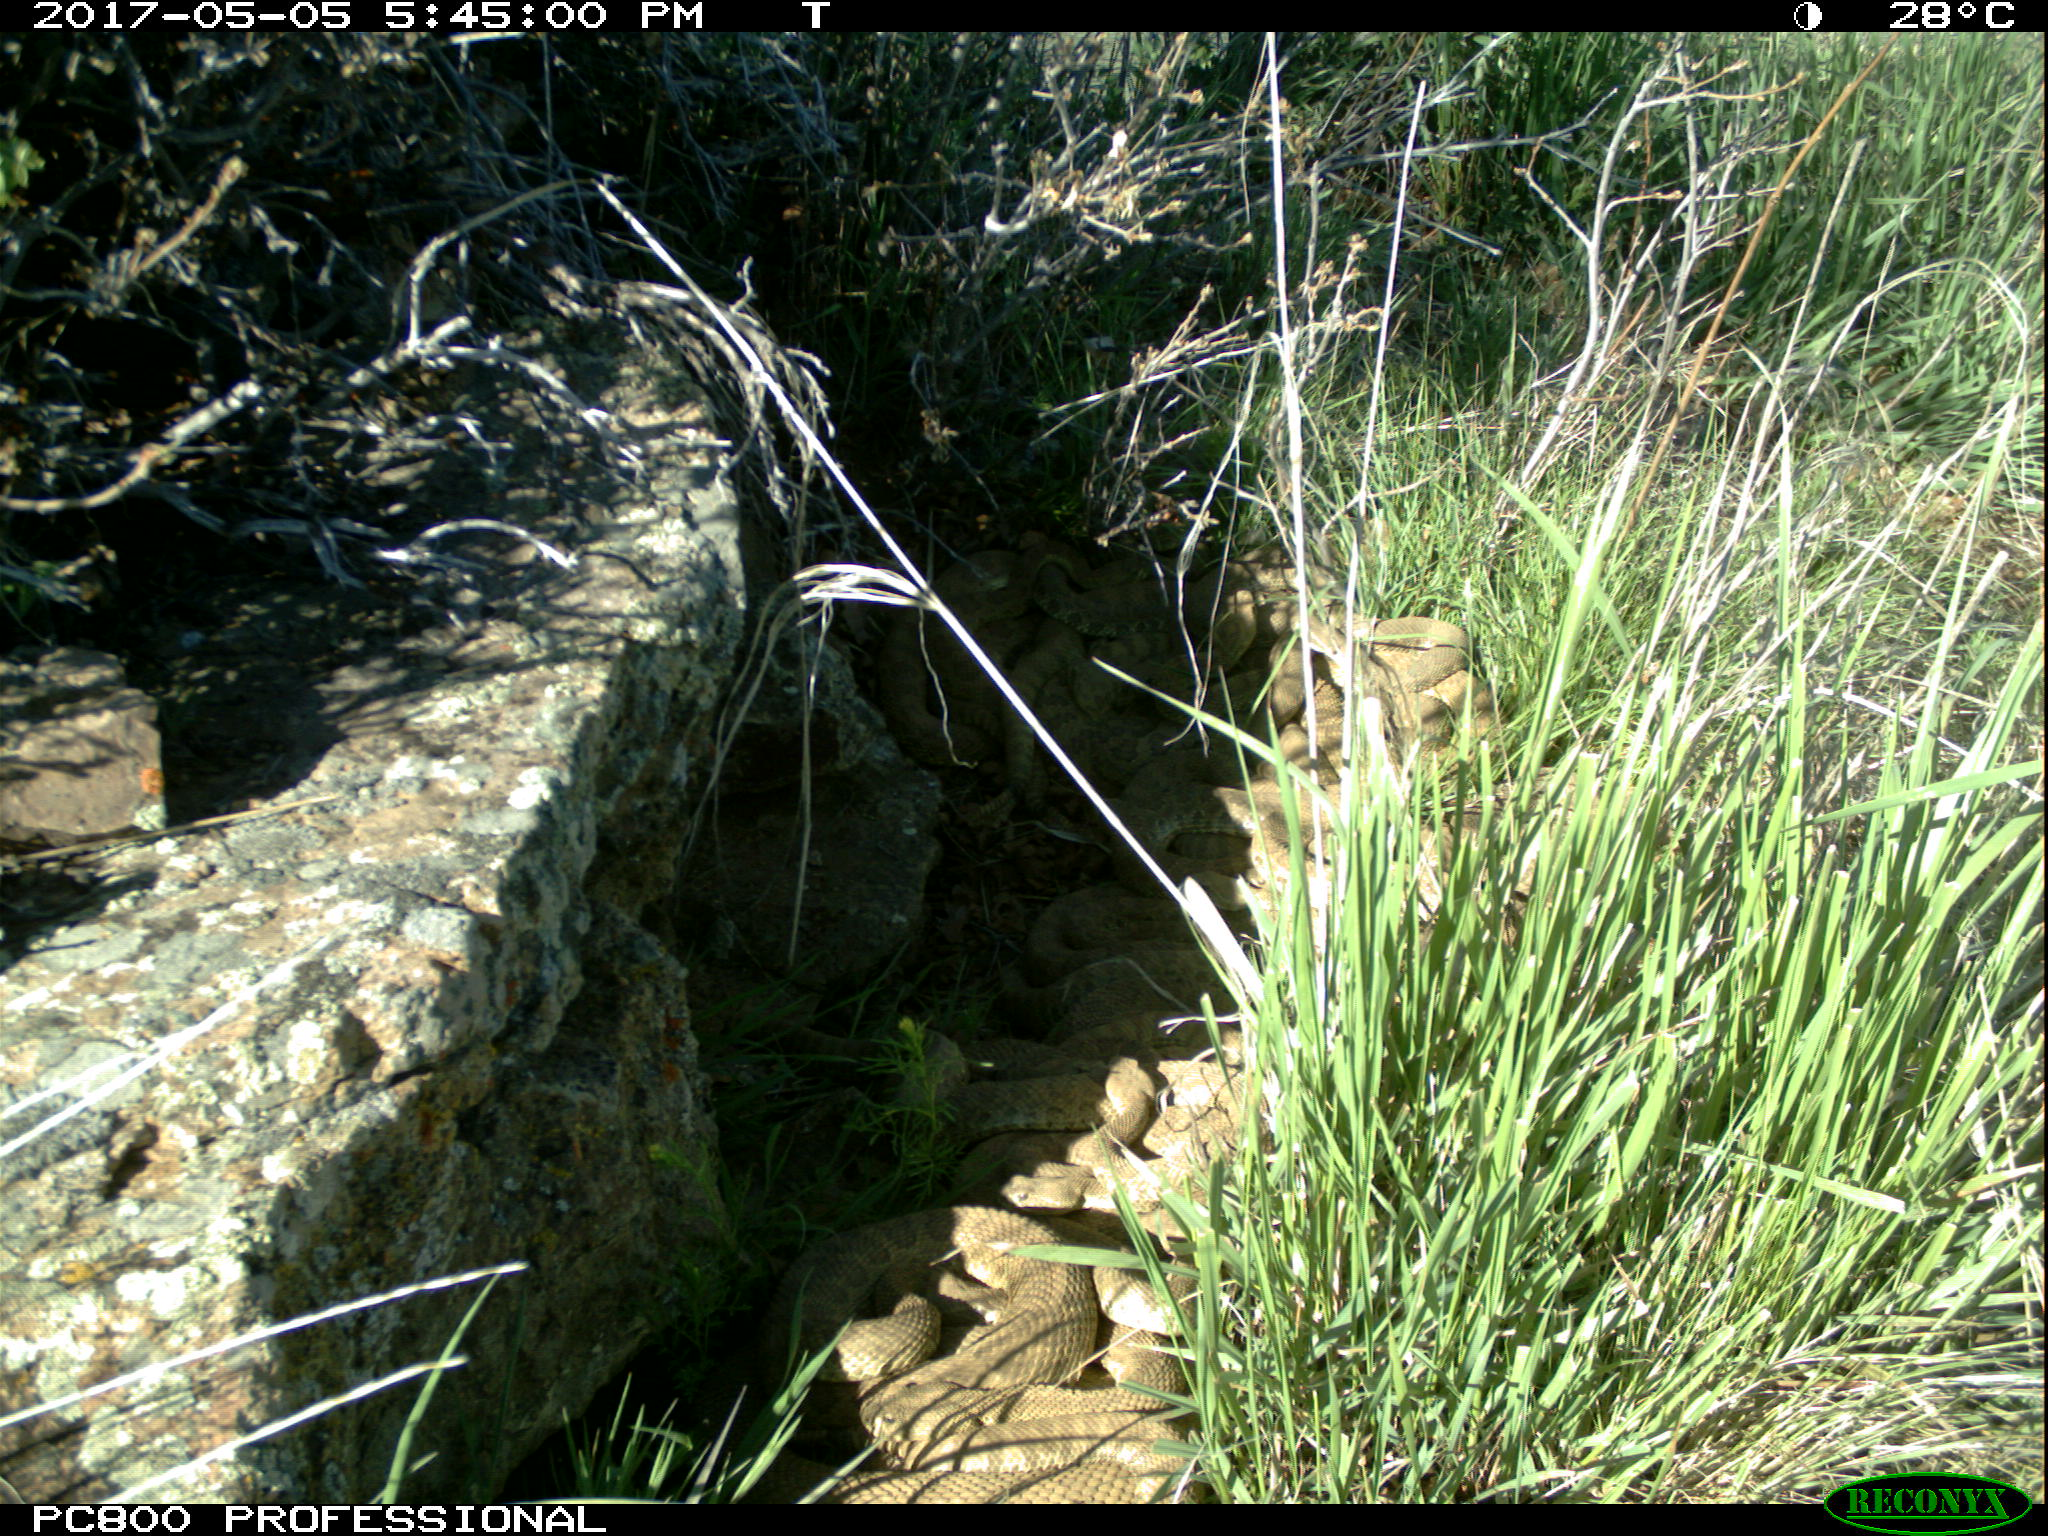snake: (748, 1205, 1198, 1504), (892, 549, 1214, 774), (947, 999, 1287, 1204), (1205, 573, 1514, 781), (1018, 787, 1322, 995)
